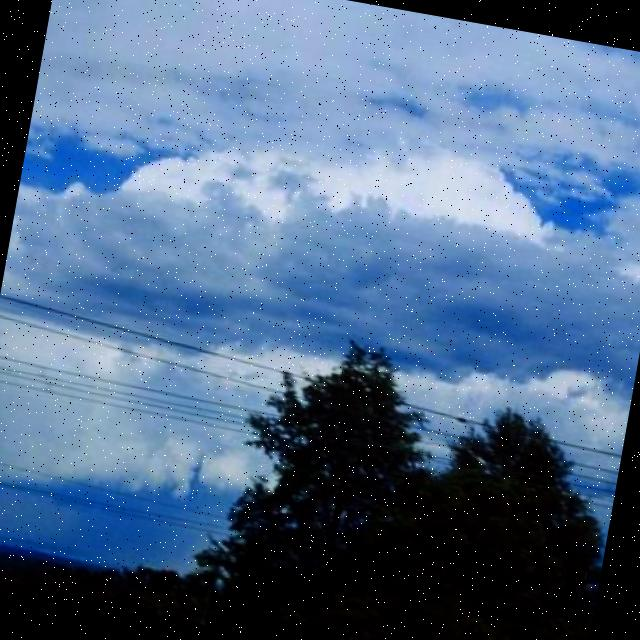Ac: (5, 1, 640, 381)
